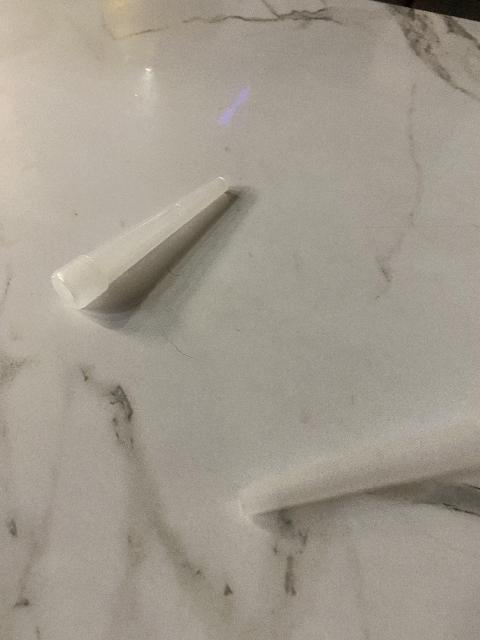Plastik: (49, 168, 240, 333), (237, 433, 480, 532)
